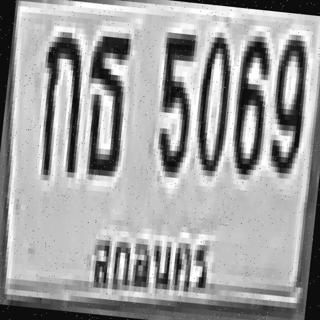A01: (33, 25, 87, 178)
A24: (79, 30, 129, 171)
N00: (191, 26, 235, 172)
N05: (150, 26, 196, 173)
N06: (228, 29, 271, 170)
N09: (265, 28, 308, 174)
P56: (81, 205, 218, 310)
